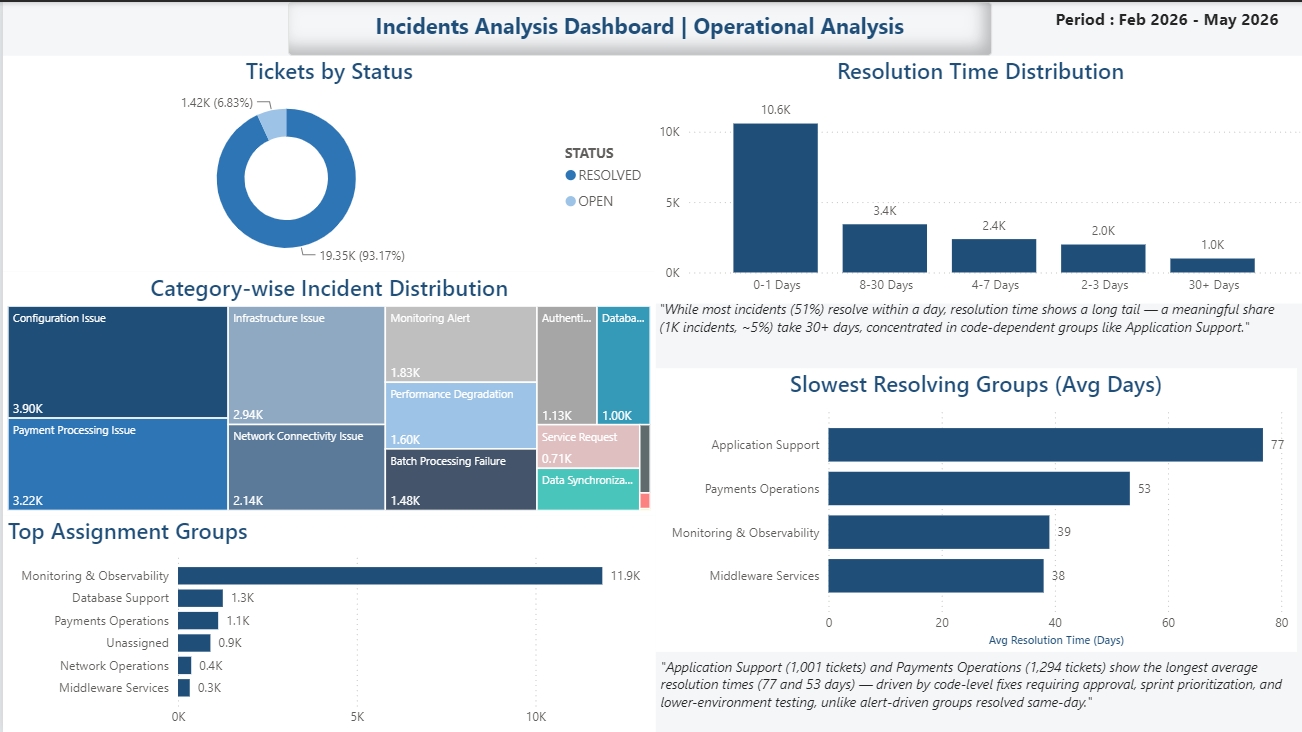

This screenshot's page, from the dashboard's own definition file:
{"tool":"powerbi","page":{"name":"Operational Analysis","canvas":[1280,720],"ordinal":1},"visuals":[{"type":"clusteredColumnChart","title":"Resolution Time Distribution","fields":{"Category":["VW_INCIDENT_ANALYTICS.RESOLUTION_BUCKET"],"Y":["CountNonNull(VW_INCIDENT_ANALYTICS.INCIDENT_NUMBER)"]},"box":[639.3,52.8,640.5,242.9],"z":0},{"type":"donutChart","title":"Tickets by Status","fields":{"Category":["VW_INCIDENT_ANALYTICS.STATUS"],"Y":["CountNonNull(VW_INCIDENT_ANALYTICS.INCIDENT_NUMBER)"]},"box":[0,52.8,640.5,212.3],"z":1000},{"type":"clusteredBarChart","title":"Top Assignment Groups","fields":{"Y":["CountNonNull(VW_INCIDENT_ANALYTICS.INCIDENT_NUMBER)"],"Category":["VW_INCIDENT_ANALYTICS.Assignment Group Updated"]},"box":[0,504.3,640.5,216],"z":2000},{"type":"treemap","title":"Category-wise Incident Distribution","fields":{"Values":["CountNonNull(VW_INCIDENT_ANALYTICS.INCIDENT_NUMBER)"],"Group":["VW_INCIDENT_ANALYTICS.Category Updated"]},"box":[0,265,640.5,239.3],"z":3000},{"type":"clusteredBarChart","title":"Slowest Resolving Groups (Avg Days)","fields":{"Y":["VW_INCIDENT_ANALYTICS.Avg Resolution Time (Days)"],"Category":["VW_INCIDENT_ANALYTICS.Assignment Group Updated"]},"box":[640.5,359.5,629.5,278.5],"z":4000},{"type":"textbox","box":[279.8,0,690.8,52.8],"z":5000},{"type":"textbox","box":[640.5,638,629.5,82.2],"z":6000},{"type":"textbox","box":[639.3,287.1,629.5,72.4],"z":7000},{"type":"textbox","box":[1028.2,0,240.5,41.7],"z":8000}]}

Visuals, with their boxes in screenshot pixels (x1, y1, x2, y2), scaled from the page's 1280x720 canvas onto the 1302x732 screenshot:
"Resolution Time Distribution" clusteredColumnChart: <box>650,54,1301,301</box>
"Tickets by Status" donutChart: <box>0,54,652,270</box>
"Top Assignment Groups" clusteredBarChart: <box>0,513,652,731</box>
"Category-wise Incident Distribution" treemap: <box>0,269,652,513</box>
"Slowest Resolving Groups (Avg Days)" clusteredBarChart: <box>652,365,1292,649</box>
textbox: <box>285,0,987,54</box>
textbox: <box>652,649,1292,731</box>
textbox: <box>650,292,1291,365</box>
textbox: <box>1046,0,1291,42</box>
